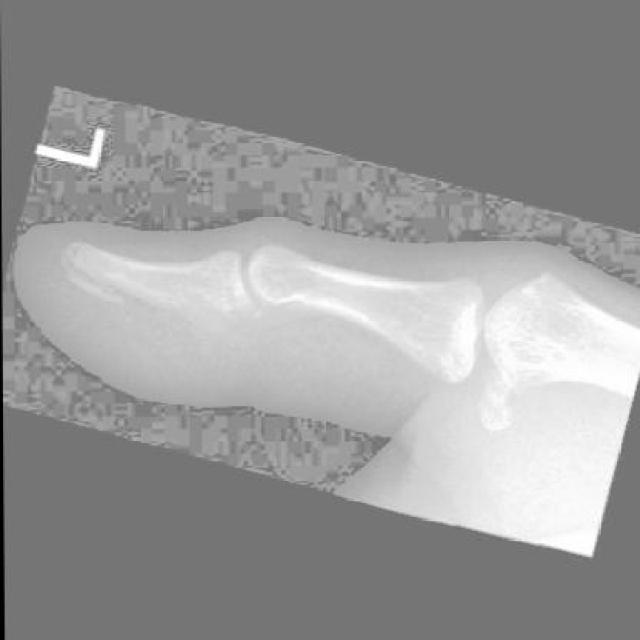Fracture: (37, 216, 260, 365)
